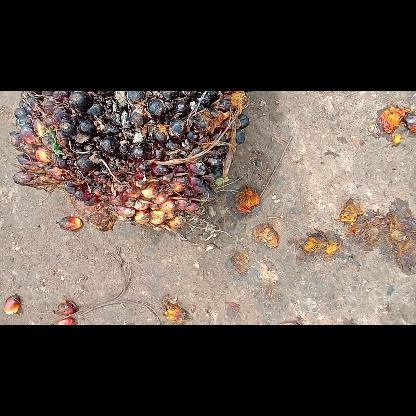TBS mentah: (9, 92, 251, 238)
